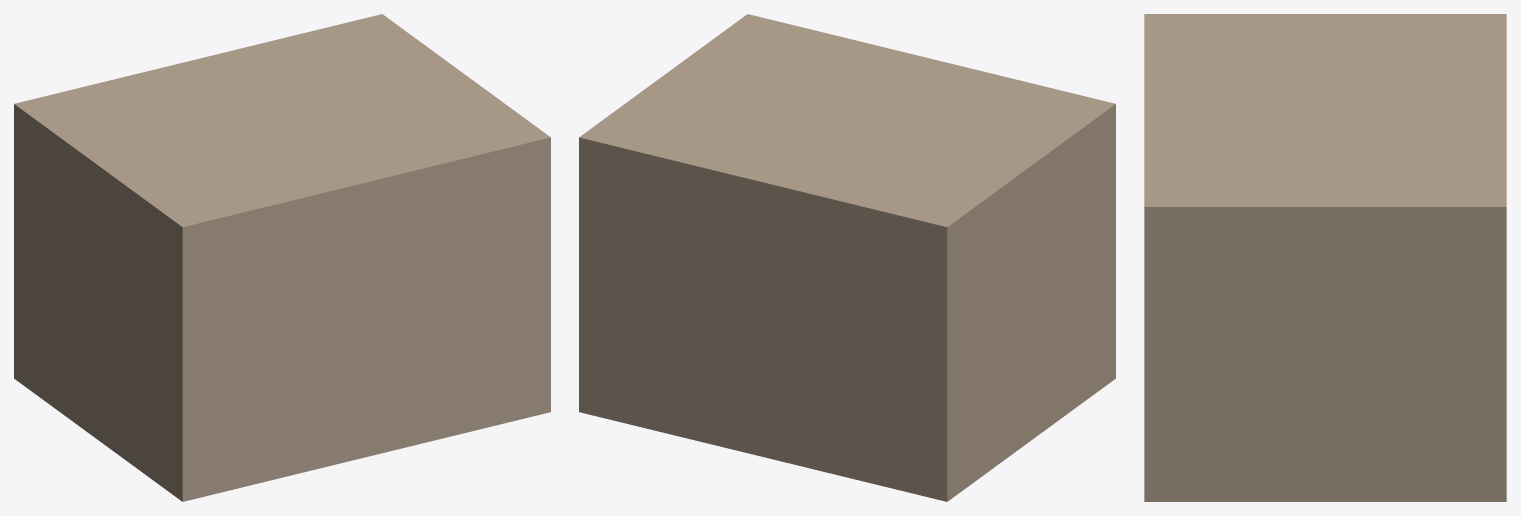
3 views of the same model, side by side, from view 1: azimuth 30°, elevation 25°; view 2: azimuth 150°, elevation 25°; view 3: azimuth 270°, elevation 25° (orthographic). The views are drawn at different scales.
Visible parts, largest first — view 1: lod3-envelope; view 2: lod3-envelope; view 3: lod3-envelope.
Boxes of the visible parts, bbox=[...] form: lod3-envelope: bbox=[14, 14, 550, 501]; lod3-envelope: bbox=[579, 14, 1115, 501]; lod3-envelope: bbox=[1144, 14, 1506, 501].
Bounding box in the file's own units: 8.7 × 6.2 × 6.9.
